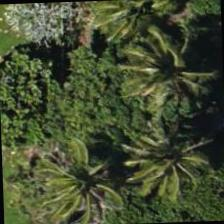Kelapa_Sawit: (124, 24, 217, 118), (114, 113, 207, 206), (35, 135, 130, 223), (75, 0, 168, 50)
